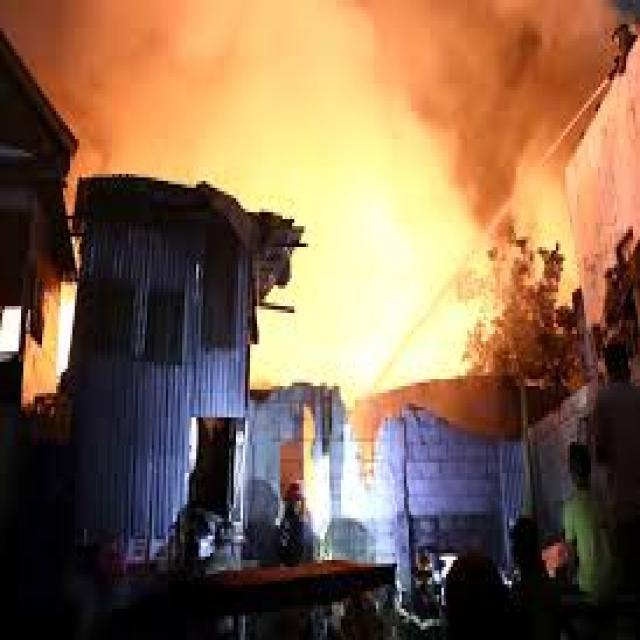Smoke: (4, 0, 640, 188)
